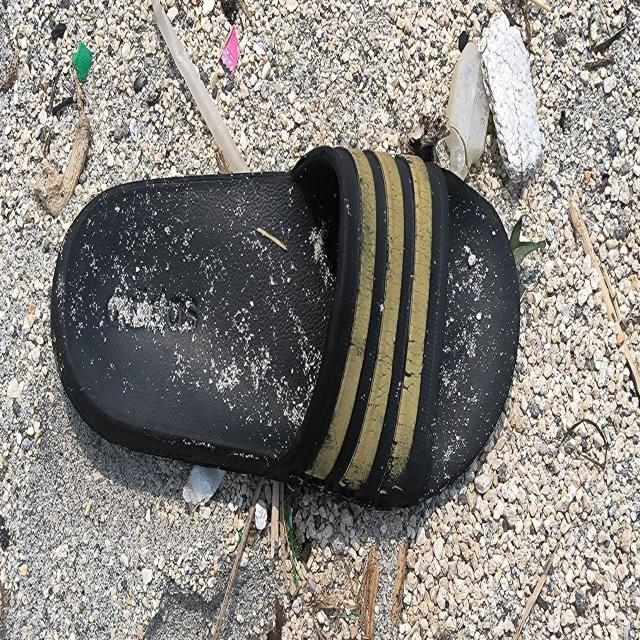plastic_waste: (151, 3, 252, 175)
rubber_waste: (51, 148, 523, 512)
styrofoam_waste: (480, 10, 544, 179)
